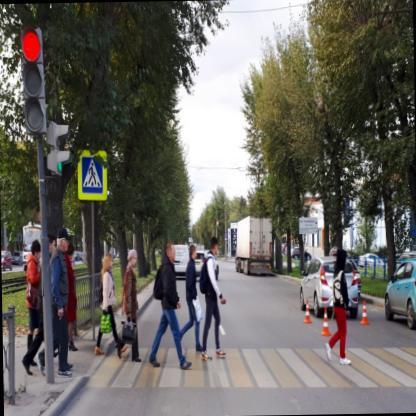obstructed_road_sign: (78, 150, 107, 200)
off traffic light: (44, 122, 71, 175)
traffic light: (22, 28, 45, 134)
